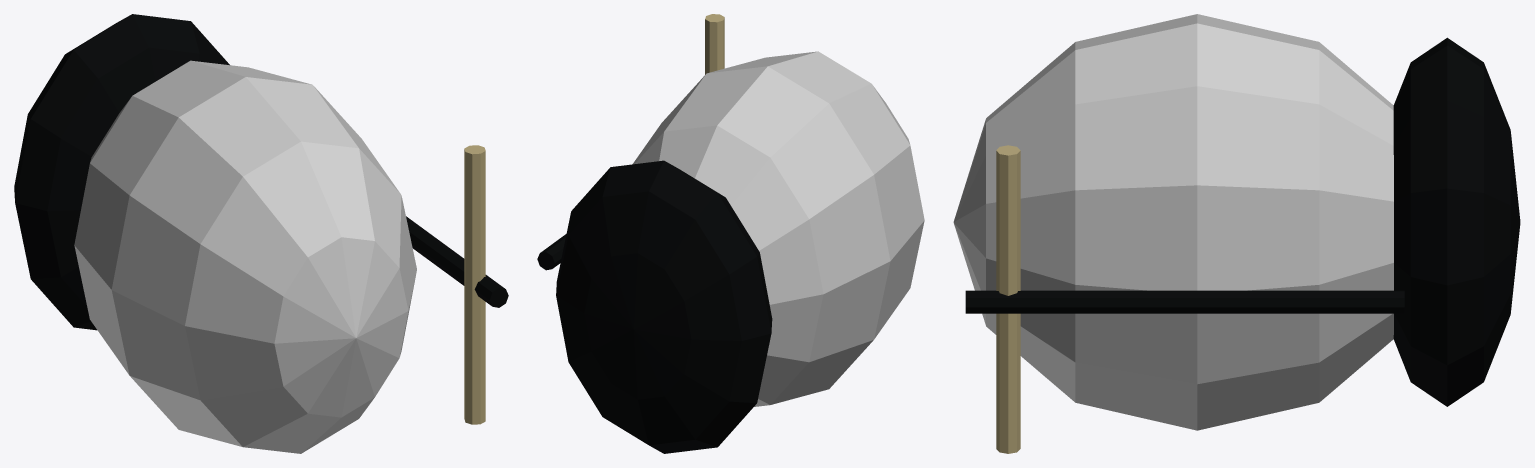
Rendered from Resident8Body.obj.
3 views of the same model, side by side, from view 1: azimuth 30°, elevation 25°; view 2: azimuth 150°, elevation 25°; view 3: azimuth 270°, elevation 25° (orthographic). The views are drawn at different scales.
Visible parts, largest first — view 1: Resident8Body; view 2: Resident8Body; view 3: Resident8Body.
Part boxes in pixels (x1,y1,x2,y2): Resident8Body: (14,14,508,453); Resident8Body: (537,14,924,453); Resident8Body: (953,14,1520,453).
Bounding box in the file's own units: 61 × 72 × 93.
